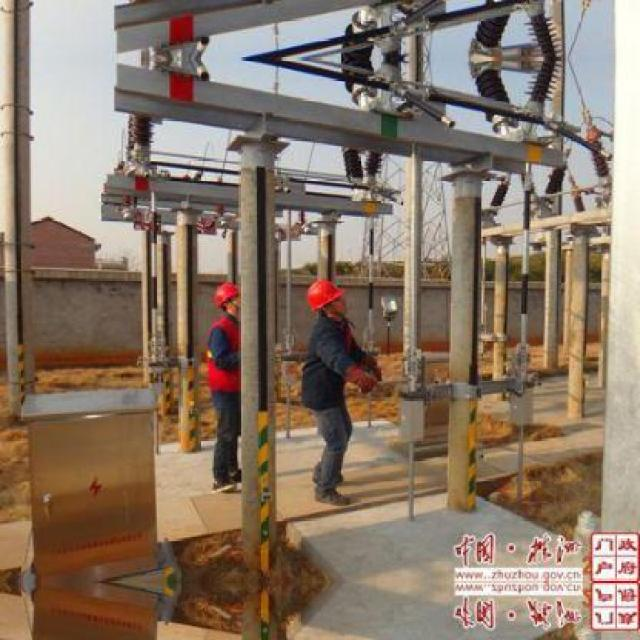helmet: (305, 276, 347, 324), (211, 278, 247, 318)
